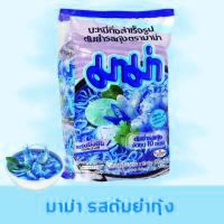snack: (46, 1, 181, 185)
